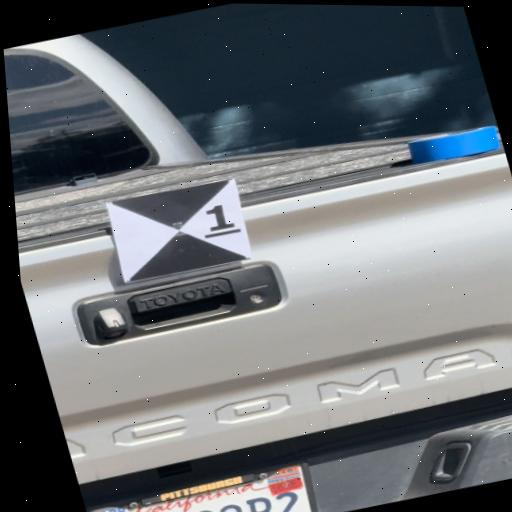target1: (104, 175, 253, 283)
